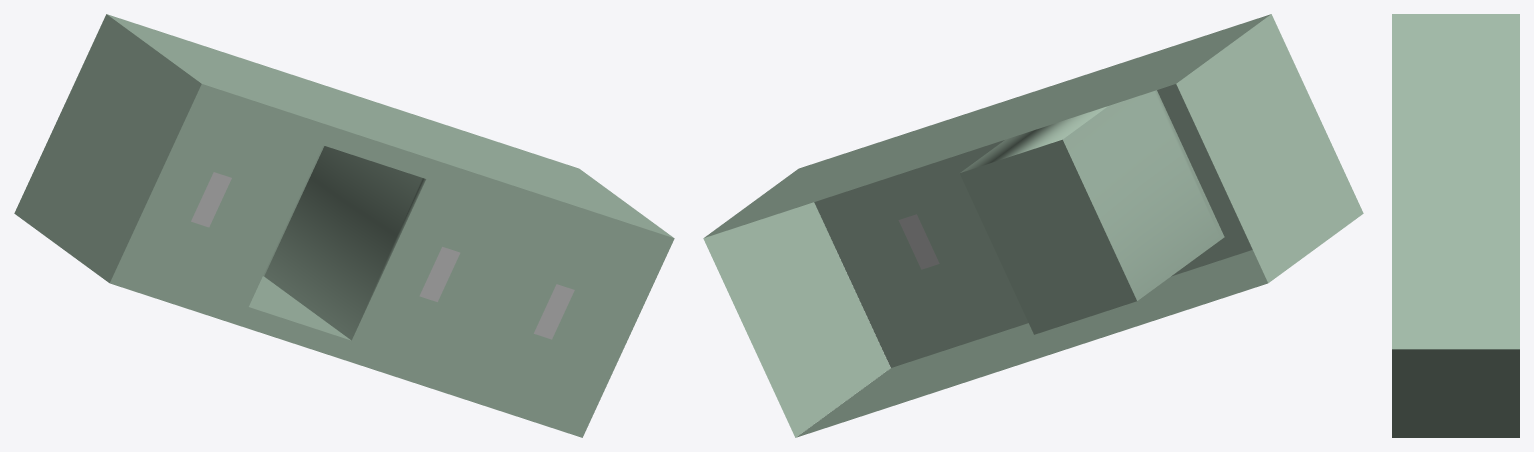
The model's file is MSH_QuestObject_cabinet_06.fbx.
3 views of the same model, side by side, from view 1: azimuth 30°, elevation 25°; view 2: azimuth 150°, elevation 25°; view 3: azimuth 270°, elevation 25° (orthographic). The views are drawn at different scales.
Parts seen in each view (by area): view 1: MSH_QuestObject_cabinet_06; view 2: MSH_QuestObject_cabinet_06; view 3: MSH_QuestObject_cabinet_06.
Boxes of the visible parts, x1=… form: MSH_QuestObject_cabinet_06: x1=14, y1=14, x2=674, y2=437; MSH_QuestObject_cabinet_06: x1=703, y1=14, x2=1363, y2=437; MSH_QuestObject_cabinet_06: x1=1392, y1=14, x2=1519, y2=437.
Bounding box in the file's own units: 3.02 × 2.29 × 0.8844.
